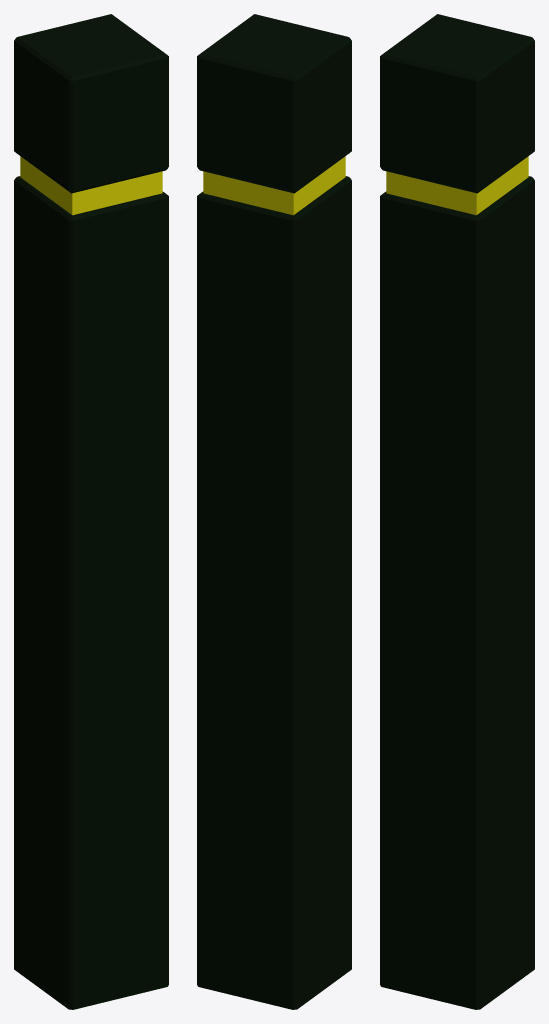
Rendered from angle bollard.fbx.
3 views of the same model, side by side, from view 1: azimuth 30°, elevation 25°; view 2: azimuth 150°, elevation 25°; view 3: azimuth 330°, elevation 25° (orthographic).
Parts seen in each view (by area): view 1: angle bollard; view 2: angle bollard; view 3: angle bollard.
Part boxes in pixels (x1,y1,x2,y2): angle bollard: [14, 14, 168, 1009]; angle bollard: [197, 14, 351, 1009]; angle bollard: [380, 14, 534, 1009].
Size of the model in its own units: 0.09 by 0.8 by 0.09.
2 materials, 2 textured.
